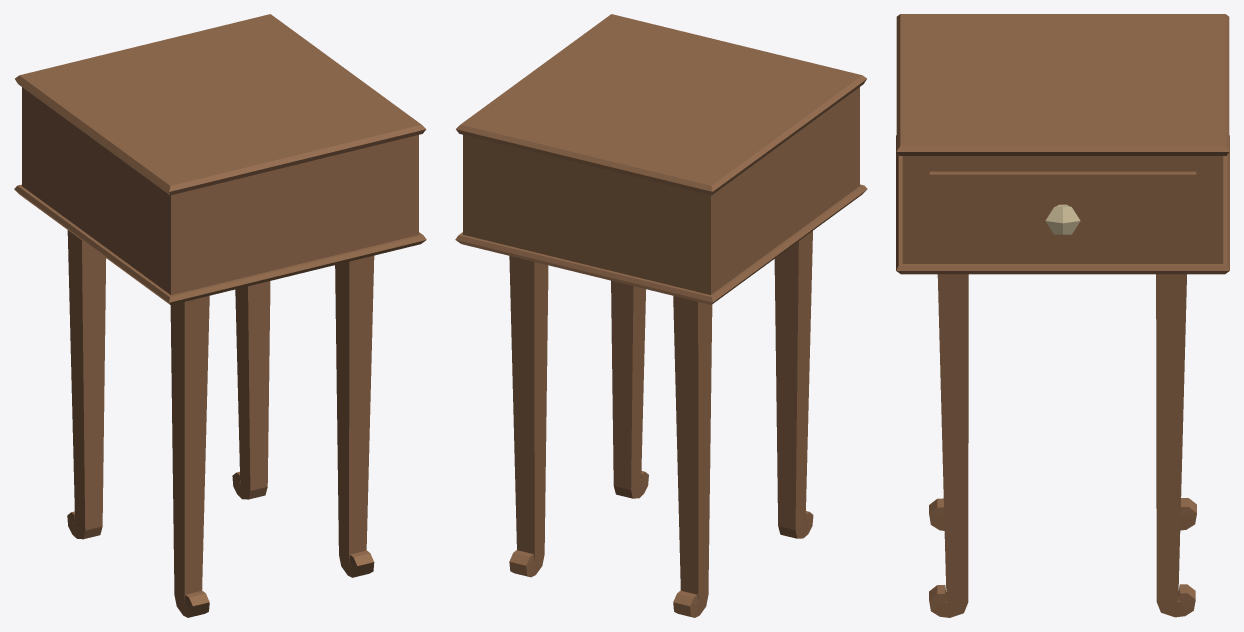
Rendered from bedsideTable.fbx.
3 renders of one model, left to right at view 1: azimuth 30°, elevation 25°; view 2: azimuth 150°, elevation 25°; view 3: azimuth 270°, elevation 25°, orthographic. The views are drawn at different scales.
Visible parts, largest first — view 1: Cube, Cube.001, Cube.002, Cube.003, Cube.004; view 2: Cube, Cube.003, Cube.004, Cube.001, Cube.002; view 3: Cube, Cube.005, Cube.002, Cube.004, Cylinder, Cube.003.
Part boxes in pixels (x1,y1,x2,y2): Cube: [14, 14, 426, 304]; Cube.001: [170, 296, 209, 617]; Cube.002: [335, 255, 374, 577]; Cube.003: [67, 230, 106, 539]; Cube.004: [232, 281, 270, 499]; Cube: [455, 14, 867, 304]; Cube.003: [673, 296, 712, 617]; Cube.004: [509, 256, 548, 577]; Cube.001: [774, 231, 813, 538]; Cube.002: [611, 280, 648, 498]; Cube: [896, 14, 1229, 274]; Cube.005: [929, 171, 1196, 254]; Cube.002: [929, 274, 968, 617]; Cube.004: [1156, 274, 1195, 617]; Cylinder: [1045, 204, 1080, 234]; Cube.003: [1180, 498, 1196, 530].
Size of the model in its own units: 231 by 356 by 220.
